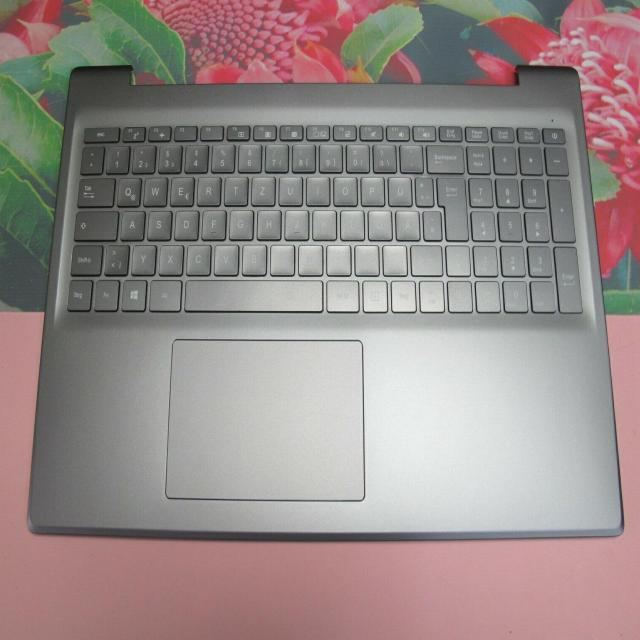0: (344, 141, 368, 171)
1: (104, 142, 128, 172)
2: (130, 142, 154, 171)
3: (157, 143, 182, 173)
4: (183, 141, 207, 171)
5: (209, 141, 234, 171)
6: (237, 142, 261, 171)
7: (264, 141, 288, 170)
8: (290, 141, 314, 170)
9: (317, 141, 341, 171)
a: (119, 207, 143, 239)
accent: (398, 142, 422, 171)
ae: (395, 209, 420, 242)
alt-left: (147, 277, 180, 311)
altgr-right: (324, 277, 359, 312)
b: (240, 241, 266, 274)
c: (184, 241, 209, 274)
caret: (79, 144, 103, 173)
comma: (325, 242, 351, 275)
d: (172, 207, 197, 239)
del: (424, 141, 462, 172)
e: (168, 174, 193, 205)
enter: (434, 172, 466, 238)
f: (200, 207, 224, 239)
g: (227, 207, 252, 239)
h: (255, 207, 280, 239)
hash: (421, 207, 440, 239)
i: (305, 176, 330, 207)
j: (283, 206, 308, 239)
k: (311, 207, 336, 239)
keyboard: (59, 111, 587, 320)
l: (339, 207, 364, 238)
less: (102, 241, 127, 273)
m: (297, 242, 322, 275)
minus: (382, 243, 408, 276)
n: (268, 242, 294, 275)
o: (331, 174, 356, 205)
oe: (368, 209, 393, 241)
p: (359, 174, 384, 204)
plus: (413, 173, 432, 205)
point: (353, 242, 379, 274)
q: (115, 174, 140, 205)
r: (195, 174, 219, 205)
s: (146, 207, 170, 239)
shift-left: (68, 241, 101, 274)
shift-lock: (72, 207, 118, 239)
shift-right: (410, 244, 444, 277)
space: (183, 276, 322, 311)
ss: (371, 141, 395, 170)
strg-left: (65, 277, 91, 310)
strg-right: (389, 278, 416, 312)
t: (222, 173, 247, 204)
tab: (75, 174, 113, 205)
u: (277, 174, 301, 205)
ue: (386, 174, 410, 205)
v: (212, 241, 237, 274)
w: (141, 173, 166, 205)
x: (157, 242, 182, 274)
y: (130, 242, 154, 274)
z: (249, 174, 274, 204)
